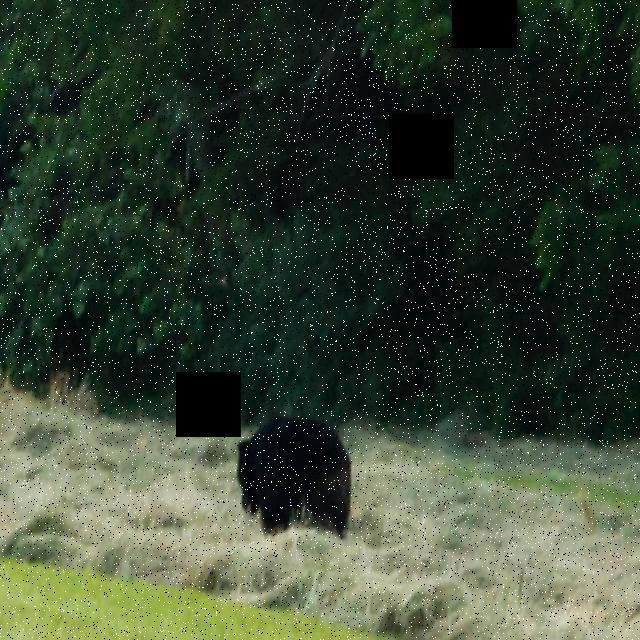Bear: (232, 409, 356, 534)
